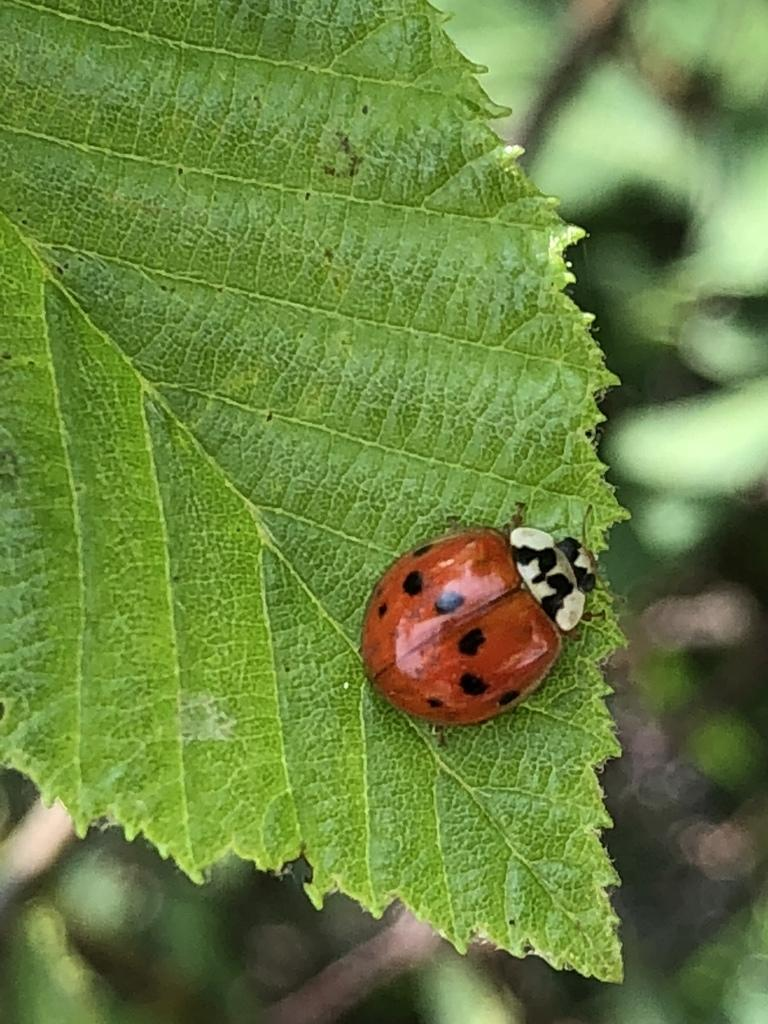ladybug: (356, 496, 614, 751)
